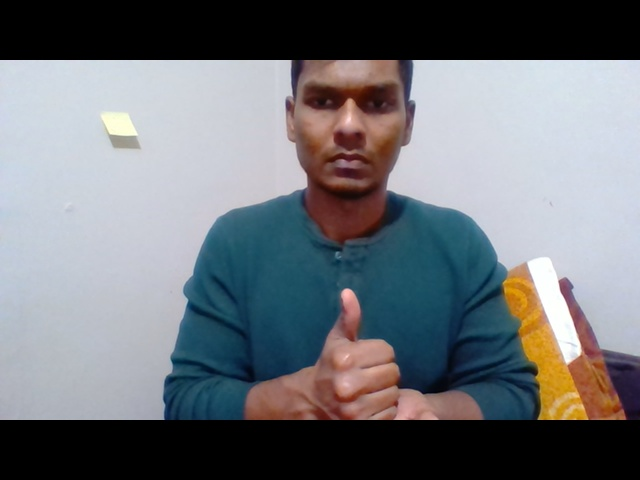Help: (307, 285, 440, 420)
